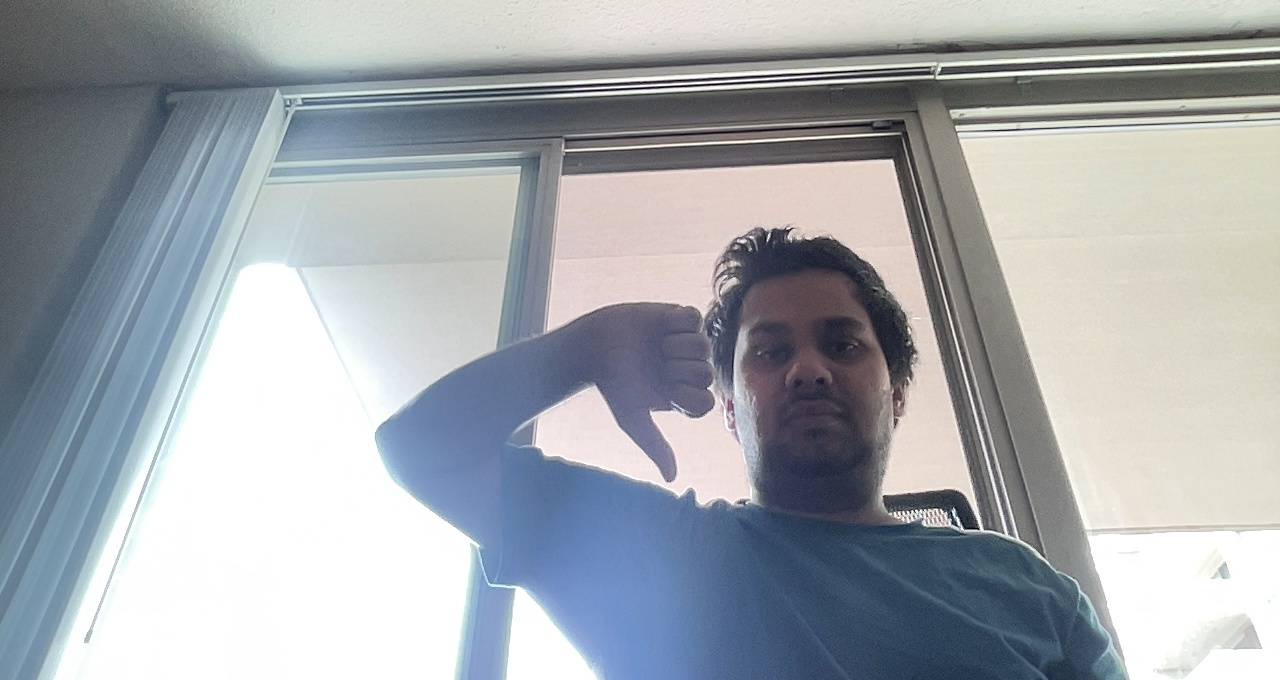thumbsdown: (568, 292, 714, 490)
